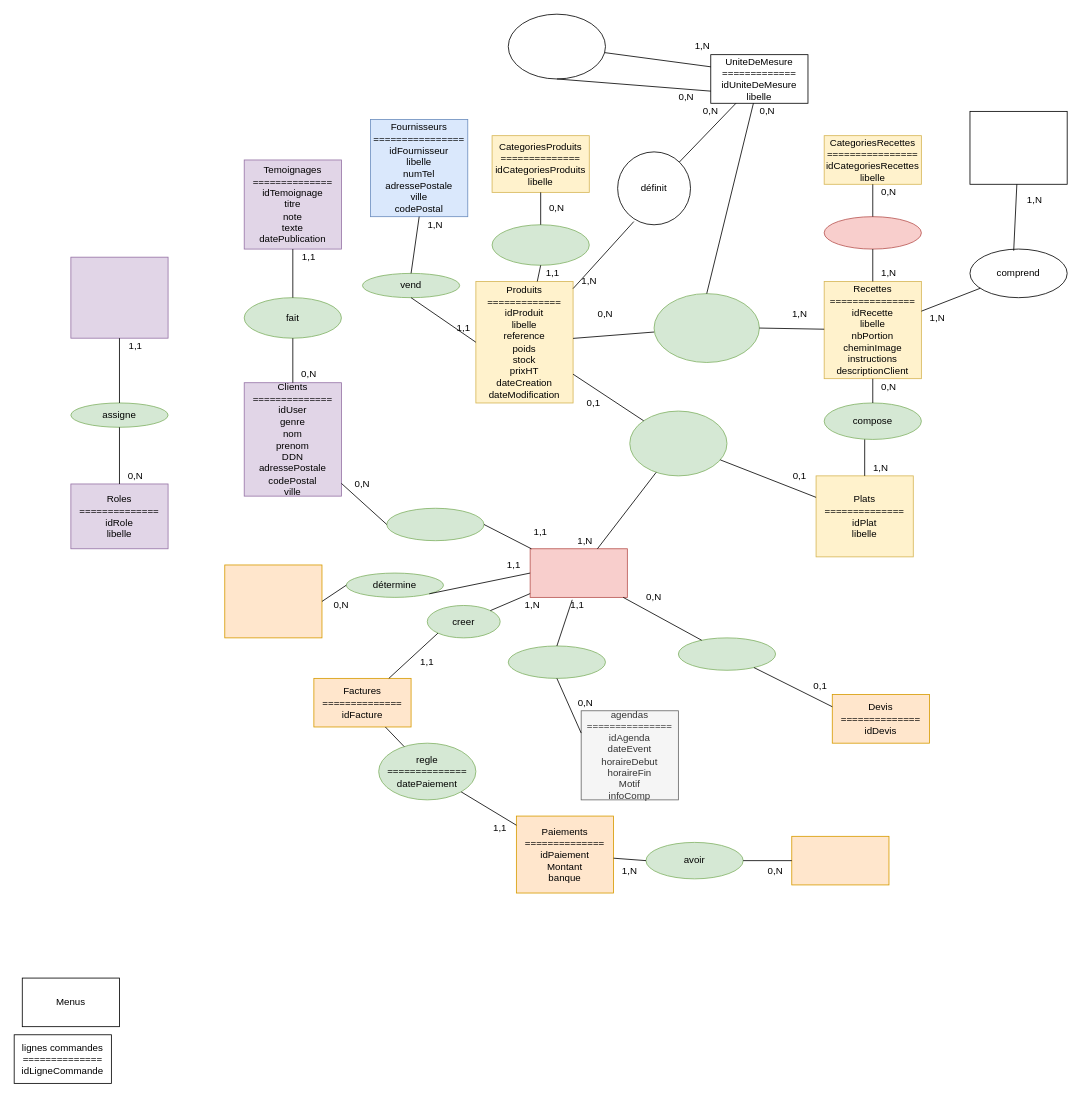
The diagram is 1081 pixels wide and 1098 high, and some of its shapes have lost their labels. Each missing label, with the centre of its shape:
"appartient" goes at point (540, 244).
"Commandes ============== idCommande numero" goes at point (578, 572).
"comporte" goes at point (872, 232).
"compose =============== quantite" goes at point (706, 327).
"Contient (ligneCommande) quantite prixVenteHT" goes at point (678, 443).
"converti" goes at point (556, 46).
"Etapes =============== idEtape titre description" goes at point (1018, 147).
"lie" goes at point (435, 524).
"Modes de paiement ============== idModePaiement libelle" goes at point (840, 860).
"Remises =============== idRemise Taux" goes at point (273, 601).
"represente" goes at point (727, 653).
"réserve" goes at point (556, 661).
"Users ============== idUser identifiant motDePasse adresseMail" goes at point (119, 297).
